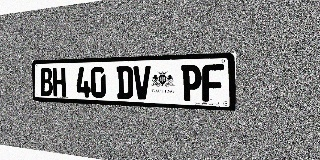0: (90, 67, 106, 98)
4: (76, 67, 91, 98)
B: (40, 68, 53, 96)
D: (116, 66, 133, 99)
F: (202, 64, 224, 102)
H: (53, 67, 66, 97)
P: (181, 65, 202, 102)
V: (133, 66, 151, 100)
